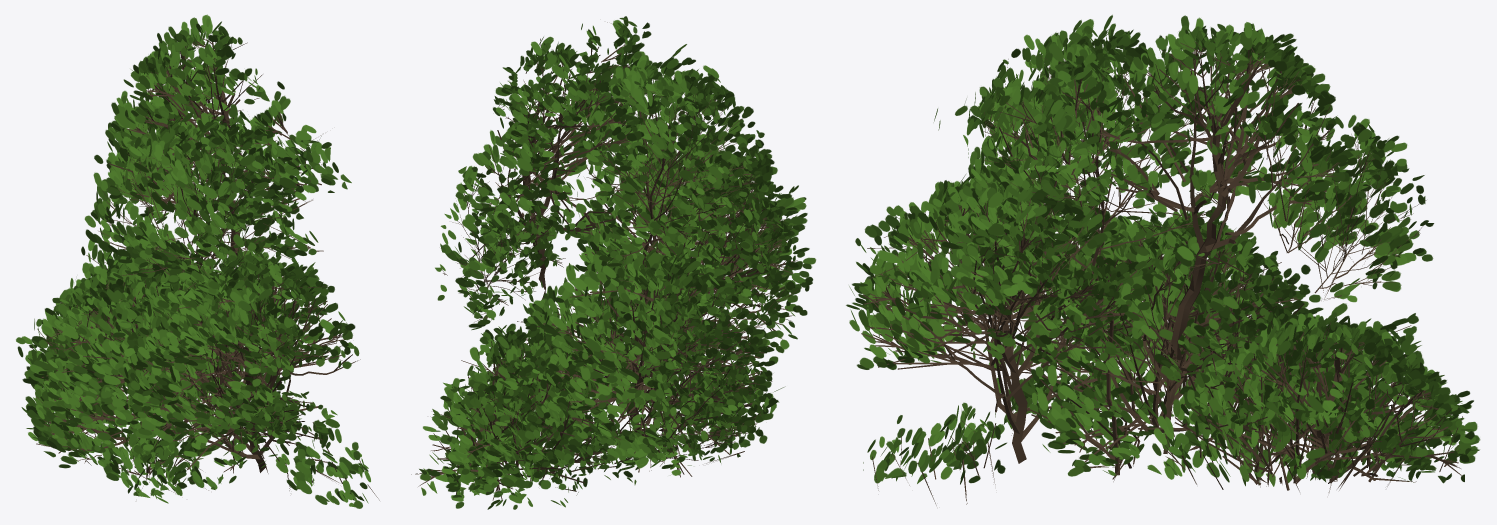
3 renders of one model, left to right at view 1: azimuth 30°, elevation 25°; view 2: azimuth 150°, elevation 25°; view 3: azimuth 270°, elevation 25°, orthographic. The views are drawn at different scales.
Parts seen in each view (by area): view 1: oak 01.001_trunk_Mat.001_0.190; view 2: oak 01.001_trunk_Mat.001_0.190; view 3: oak 01.001_trunk_Mat.001_0.190.
Part boxes in pixels (left/top/right/bottom): oak 01.001_trunk_Mat.001_0.190: left=16, top=14, right=379, bottom=508; oak 01.001_trunk_Mat.001_0.190: left=411, top=16, right=816, bottom=509; oak 01.001_trunk_Mat.001_0.190: left=846, top=15, right=1480, bottom=505.
Size of the model in its own units: 2.99 by 4.82 by 5.74.
2 materials, 1 textured.
